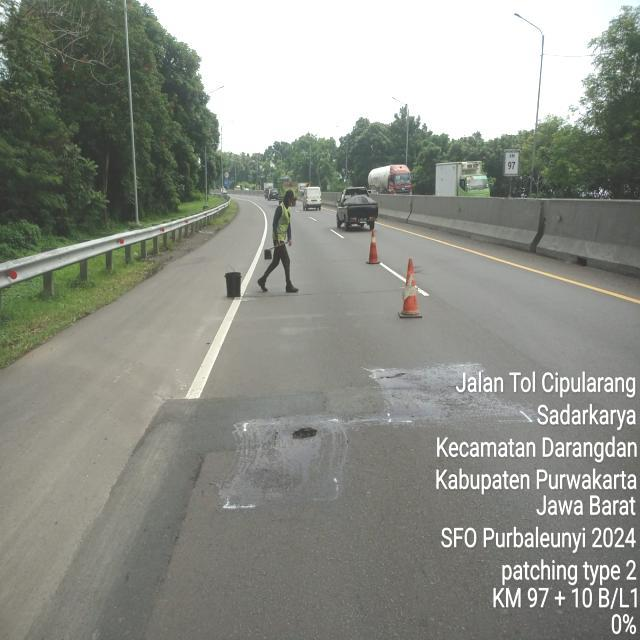Buraco: (290, 426, 320, 440)
